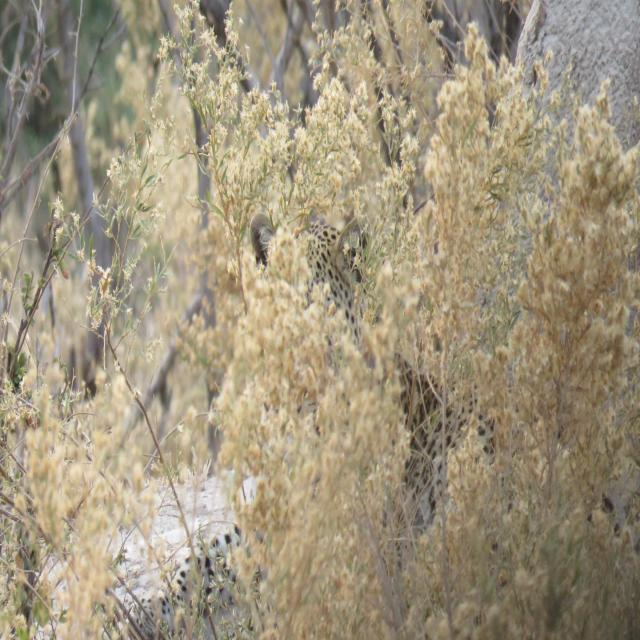Leopard: (185, 210, 628, 612)
